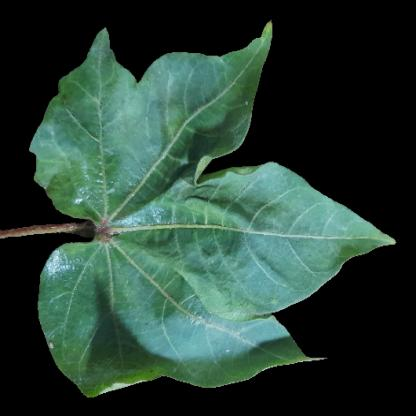curl_stage1: (162, 102, 201, 151)
healthy: (91, 248, 284, 367), (204, 190, 307, 299), (41, 272, 91, 352), (156, 57, 230, 104), (122, 160, 176, 224), (308, 199, 357, 265), (71, 93, 119, 154)
